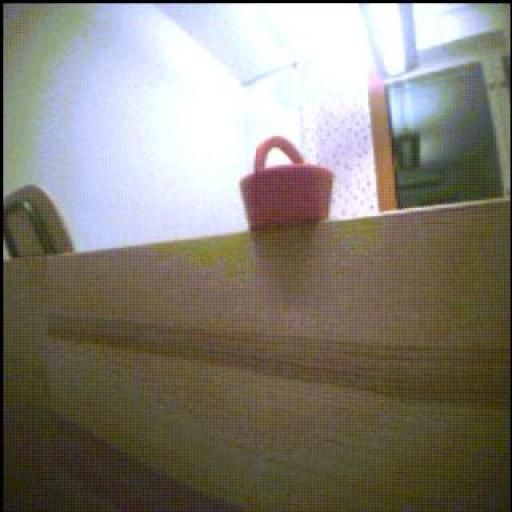Bucket: (241, 137, 334, 230)
